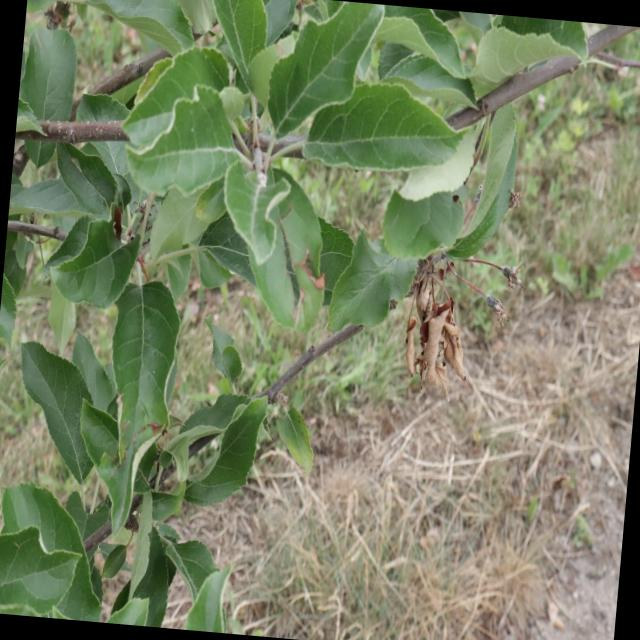-FireBlight-: (398, 260, 477, 402)
